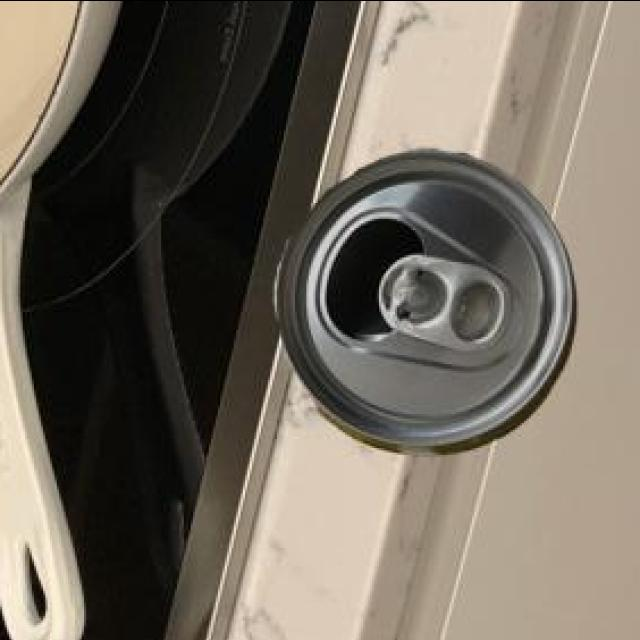logam: (271, 144, 573, 450)
